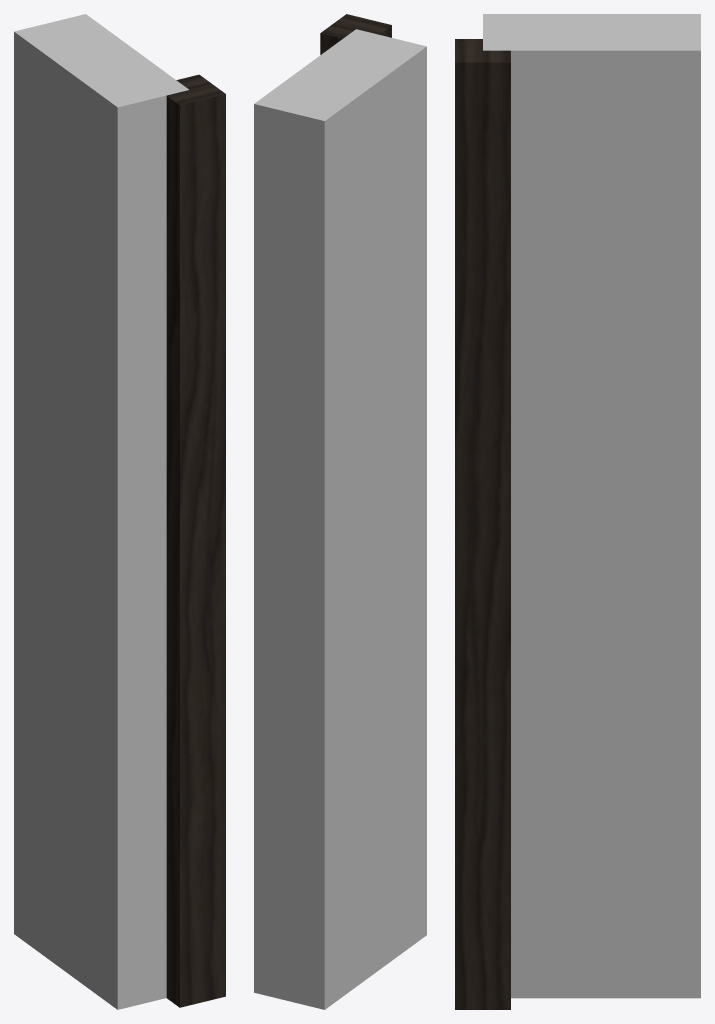
File: FerryModularWallHalf.fbx
3 renders of one model, left to right at view 1: azimuth 30°, elevation 25°; view 2: azimuth 150°, elevation 25°; view 3: azimuth 270°, elevation 25°, orthographic. The views are drawn at different scales.
Visible parts, largest first — view 1: Ferry Wall Half; view 2: Ferry Wall Half; view 3: Ferry Wall Half.
Part boxes in pixels (x1,y1,x2,y2): Ferry Wall Half: (14, 14, 225, 1009); Ferry Wall Half: (254, 14, 426, 1009); Ferry Wall Half: (455, 14, 700, 1009).
Bounding box in the file's own units: 132 × 1200 × 282.
